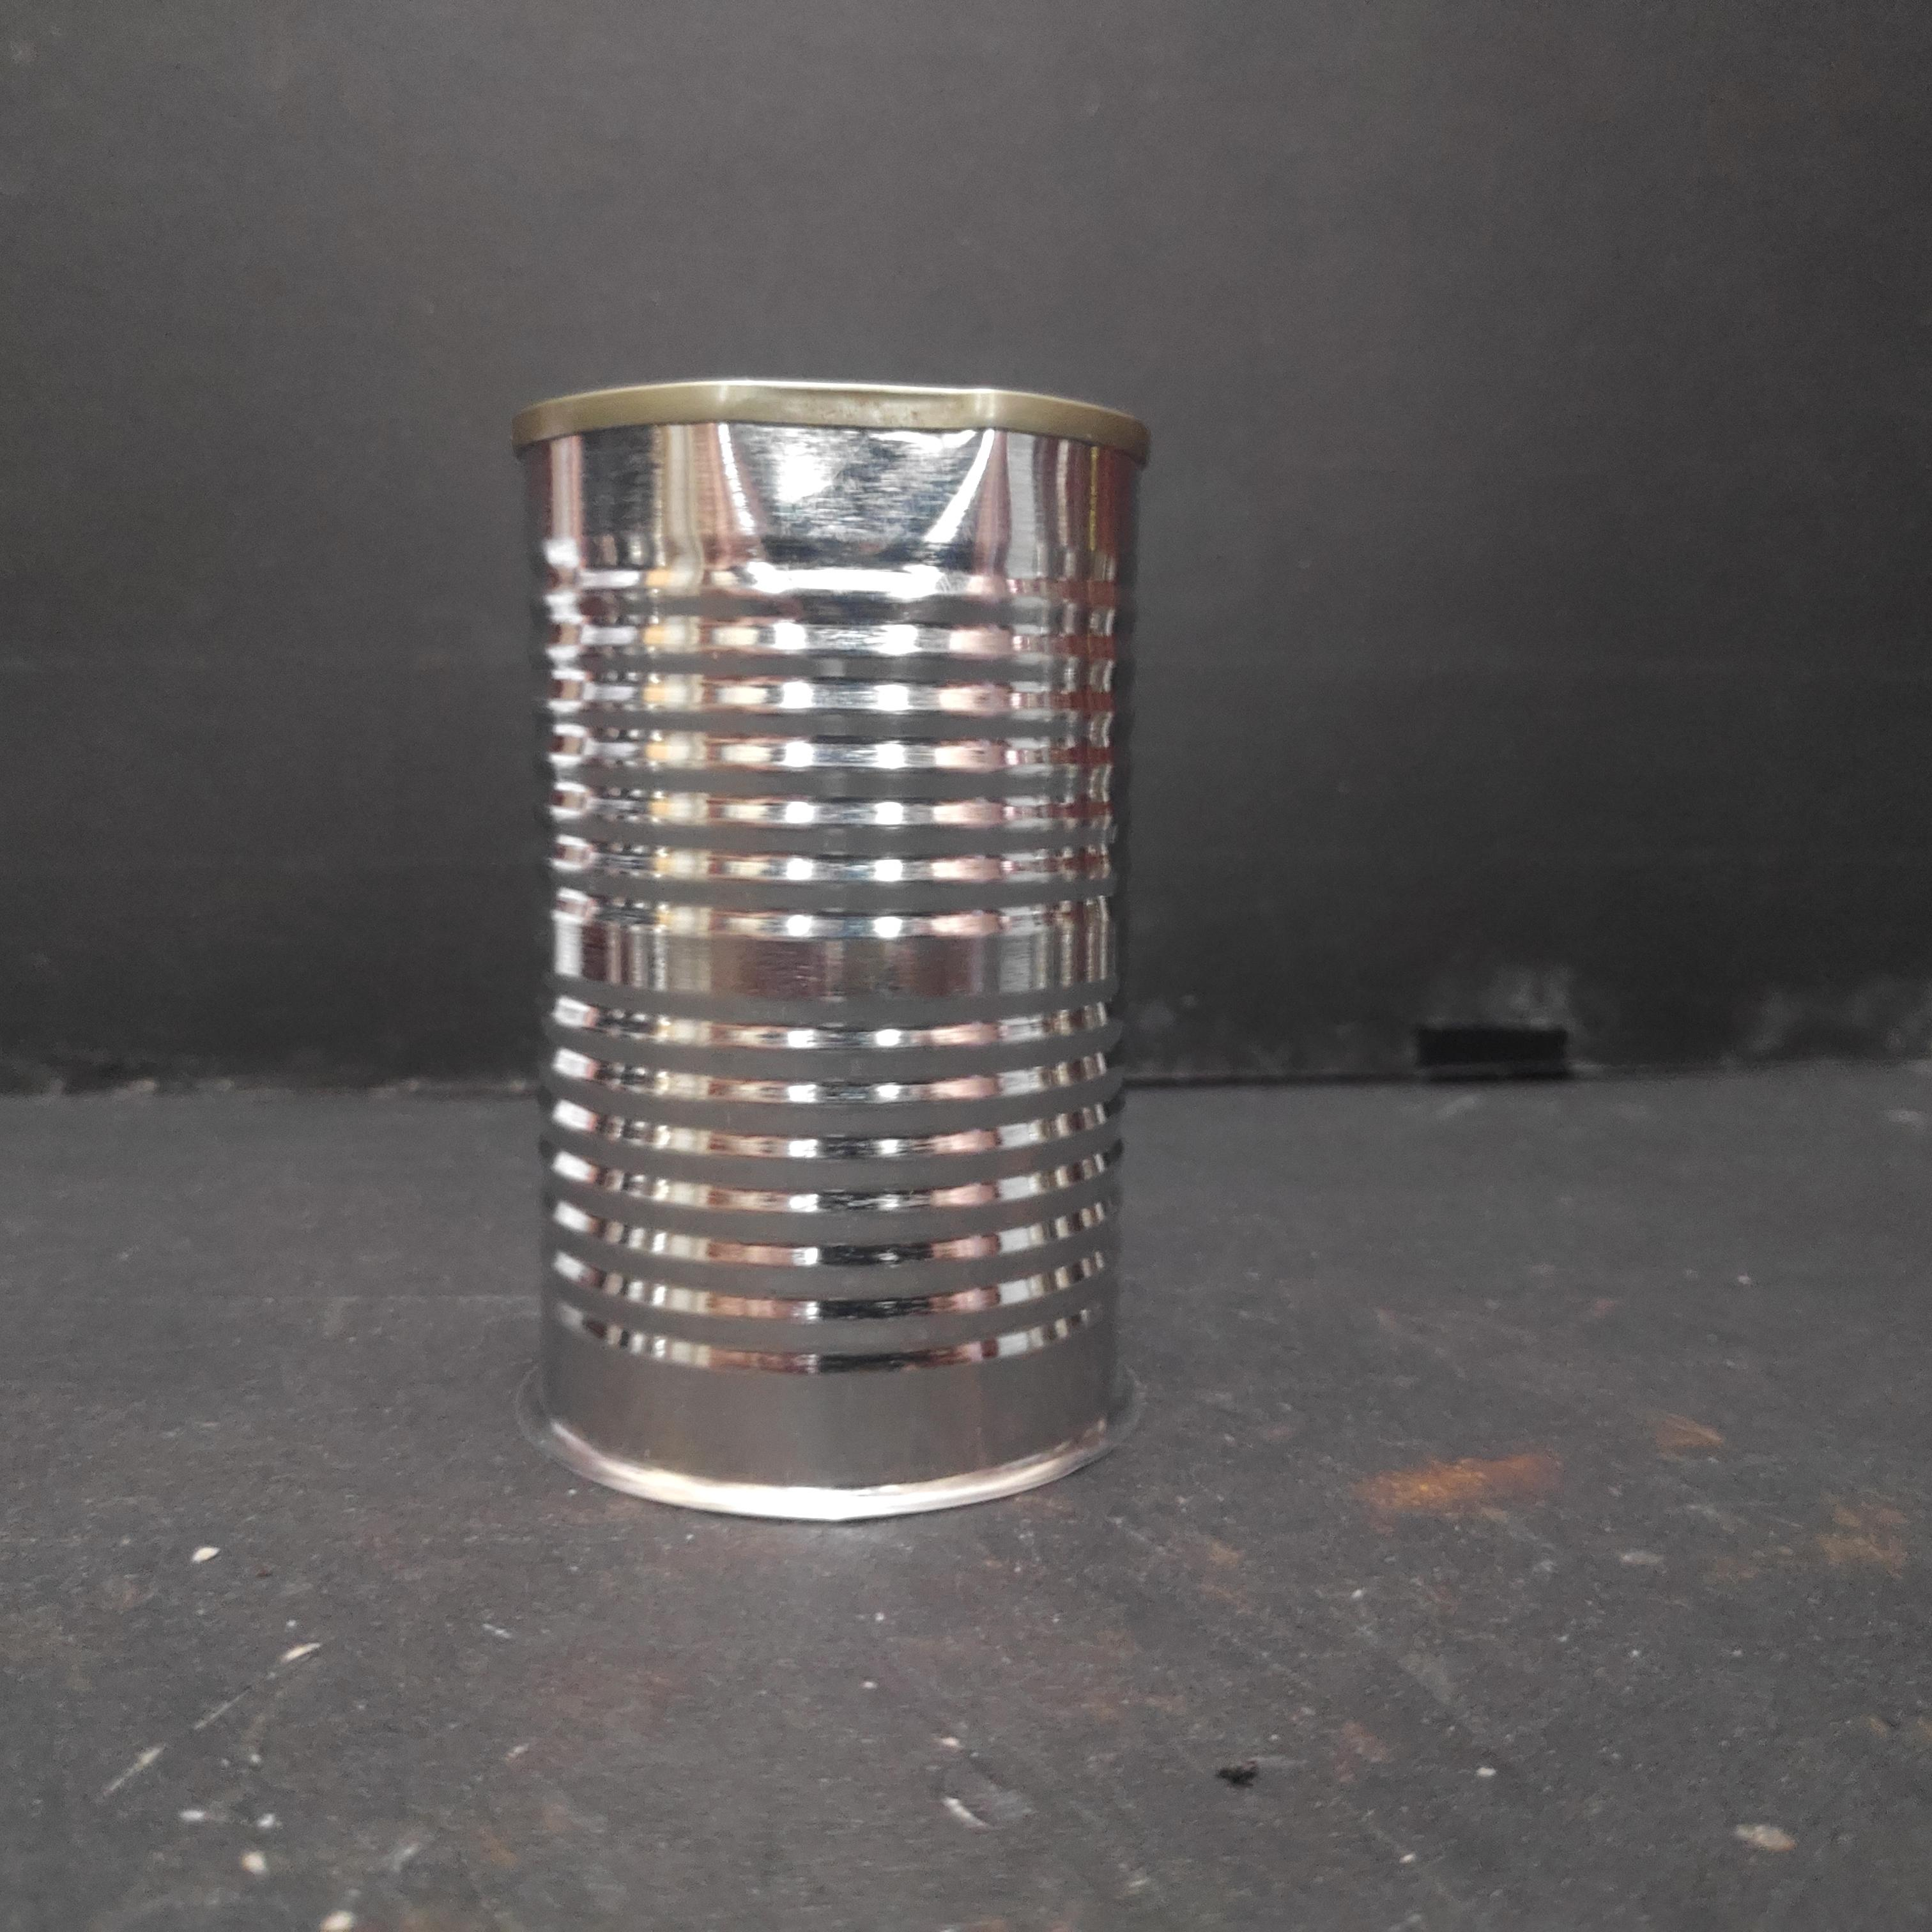Minor Defect: (506, 361, 1141, 1527)
